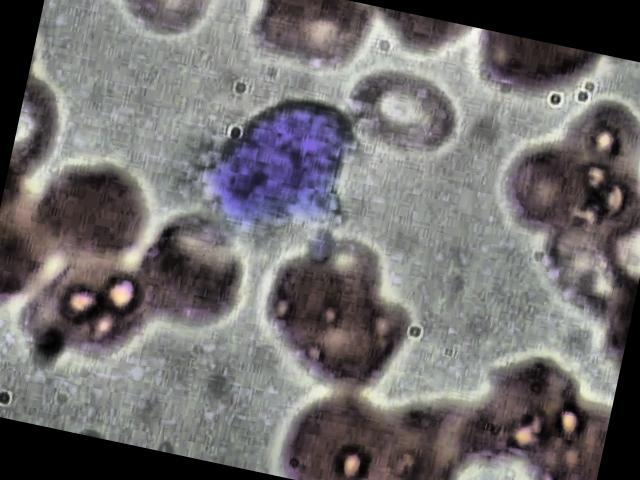Platelets: (302, 224, 338, 266)
RBC: (25, 146, 164, 284), (255, 245, 387, 380), (125, 204, 256, 339), (469, 349, 593, 478), (271, 374, 405, 480), (341, 67, 464, 160), (495, 136, 597, 248), (250, 0, 381, 83), (509, 381, 612, 480), (113, 0, 218, 48)
WBC: (191, 82, 362, 247)
